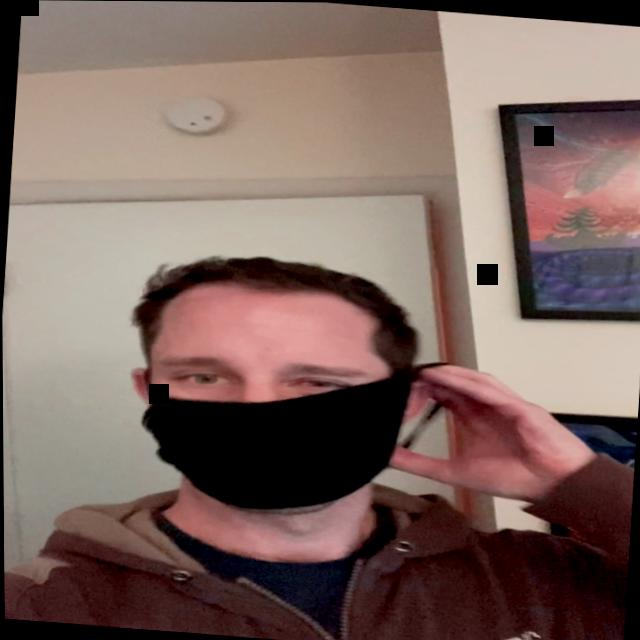Mask: (140, 272, 428, 523)
